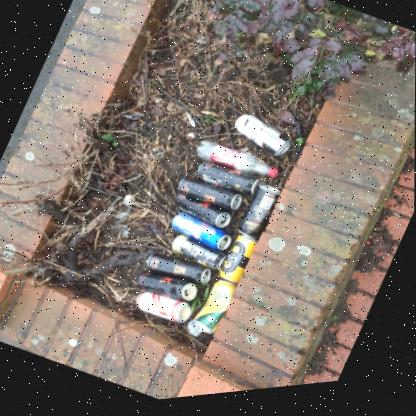Metal: (234, 120, 290, 161), (193, 285, 236, 338), (238, 190, 280, 244), (196, 166, 261, 200), (178, 180, 241, 215), (171, 217, 230, 254), (147, 256, 210, 290), (171, 238, 226, 275), (175, 197, 230, 232), (136, 274, 196, 306), (218, 240, 257, 289), (136, 294, 190, 327), (186, 292, 194, 298), (219, 222, 225, 227), (221, 246, 225, 252), (204, 279, 207, 286), (234, 205, 237, 210)
Plastic: (195, 145, 278, 184)
Waste: (187, 324, 202, 340), (115, 211, 129, 226), (113, 227, 128, 239), (183, 116, 194, 130), (122, 198, 131, 209), (270, 174, 278, 184), (392, 220, 401, 226)
